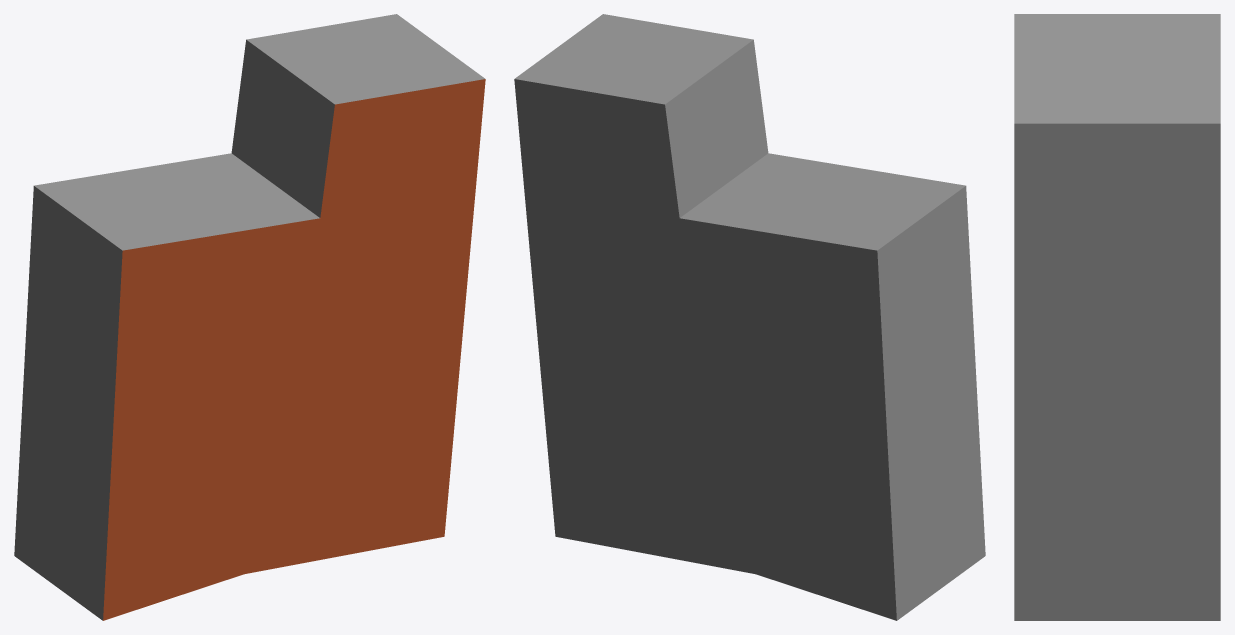
File: construction_2558_assumed_A_Casa_h6m.obj
3 views of the same model, side by side, from view 1: azimuth 30°, elevation 25°; view 2: azimuth 150°, elevation 25°; view 3: azimuth 270°, elevation 25° (orthographic). The views are drawn at different scales.
Visible parts, largest first — view 1: construction_2558_assumed_A_Casa; view 2: construction_2558_assumed_A_Casa; view 3: construction_2558_assumed_A_Casa.
Boxes of the visible parts, x1,y1,x2,y2 form: construction_2558_assumed_A_Casa: (14,14,485,620); construction_2558_assumed_A_Casa: (514,14,985,620); construction_2558_assumed_A_Casa: (1014,14,1220,620).
Bounding box in the file's own units: 14.93 × 17.14 × 6.
